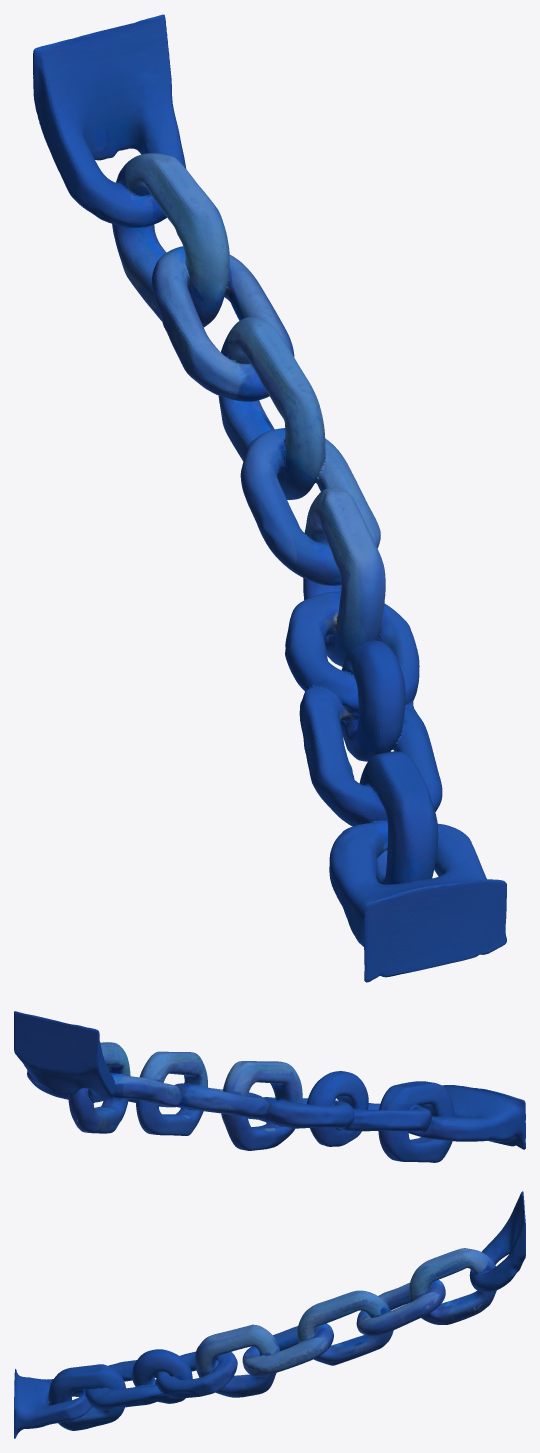
Rendered from tripo_convert_1d401967-4dba-48b6-8338-a161334a38de.glb.
3 views of the same model, one above another, from view 1: azimuth 30°, elevation 25°; view 2: azimuth 150°, elevation 25°; view 3: azimuth 270°, elevation 25° (orthographic). The views are drawn at different scales.
Parts seen in each view (by area): view 1: tripo_node_1d401967-4dba-48b6-8338-a161334a38de; view 2: tripo_node_1d401967-4dba-48b6-8338-a161334a38de; view 3: tripo_node_1d401967-4dba-48b6-8338-a161334a38de.
Boxes of the visible parts, <box> form: tripo_node_1d401967-4dba-48b6-8338-a161334a38de: <box>33,14,506,982</box>; tripo_node_1d401967-4dba-48b6-8338-a161334a38de: <box>14,1011,525,1162</box>; tripo_node_1d401967-4dba-48b6-8338-a161334a38de: <box>14,1191,525,1438</box>.
Size of the model in its own units: 0.3501 by 0.5614 by 1.
Materials: 1 (1 with a texture image).
